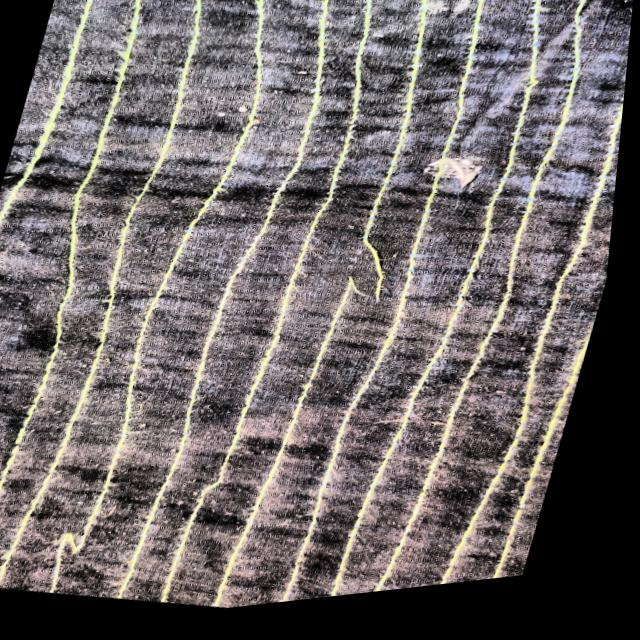Stitch: (312, 229, 420, 328), (49, 506, 123, 576)
